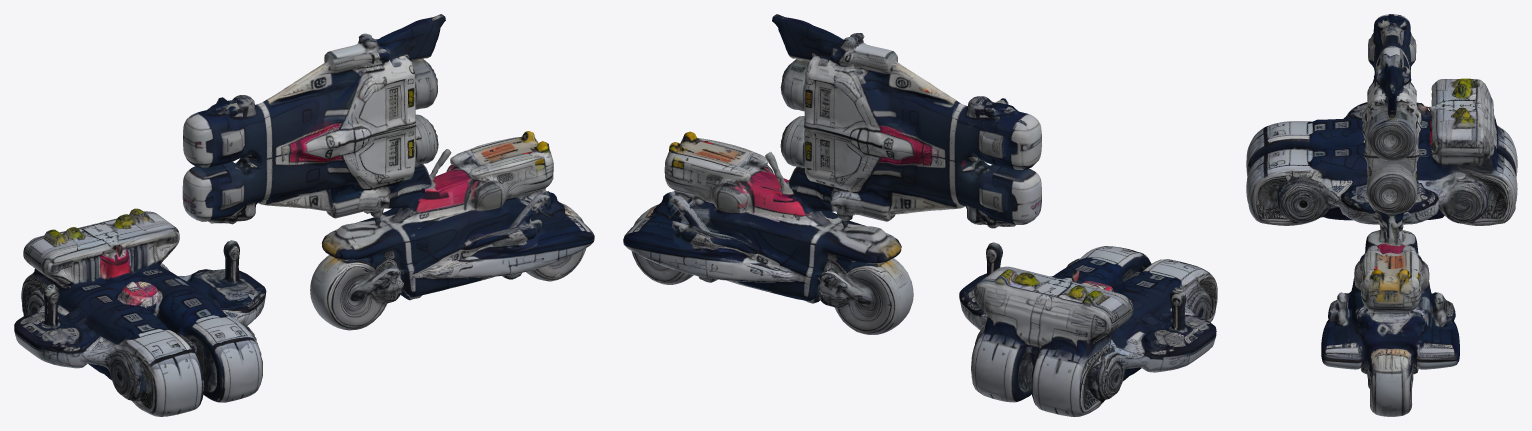
File: futuristic vehicle 3d model.glb
3 views of the same model, side by side, from view 1: azimuth 30°, elevation 25°; view 2: azimuth 150°, elevation 25°; view 3: azimuth 270°, elevation 25° (orthographic). The views are drawn at different scales.
Parts seen in each view (by area): view 1: tripo_node_86a7dc5c-61d2-4633-958d-5c22a34ce6be; view 2: tripo_node_86a7dc5c-61d2-4633-958d-5c22a34ce6be; view 3: tripo_node_86a7dc5c-61d2-4633-958d-5c22a34ce6be.
Boxes of the visible parts, x1,y1,x2,y2 form: tripo_node_86a7dc5c-61d2-4633-958d-5c22a34ce6be: [14, 14, 594, 416]; tripo_node_86a7dc5c-61d2-4633-958d-5c22a34ce6be: [623, 14, 1217, 416]; tripo_node_86a7dc5c-61d2-4633-958d-5c22a34ce6be: [1246, 14, 1517, 416].
Bounding box in the file's own units: 1 × 0.4957 × 0.4385.
1 material, 1 textured.
